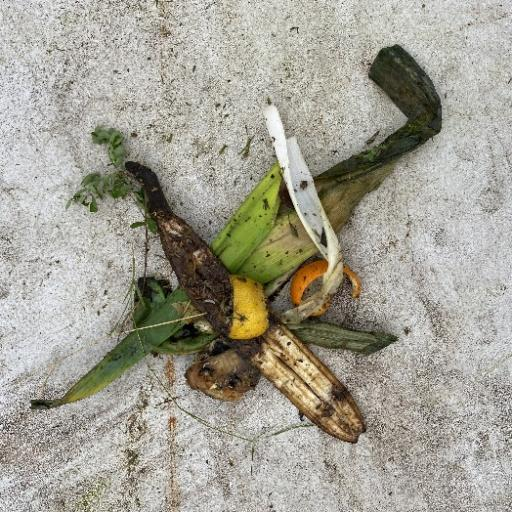Waste: (29, 42, 444, 446)
